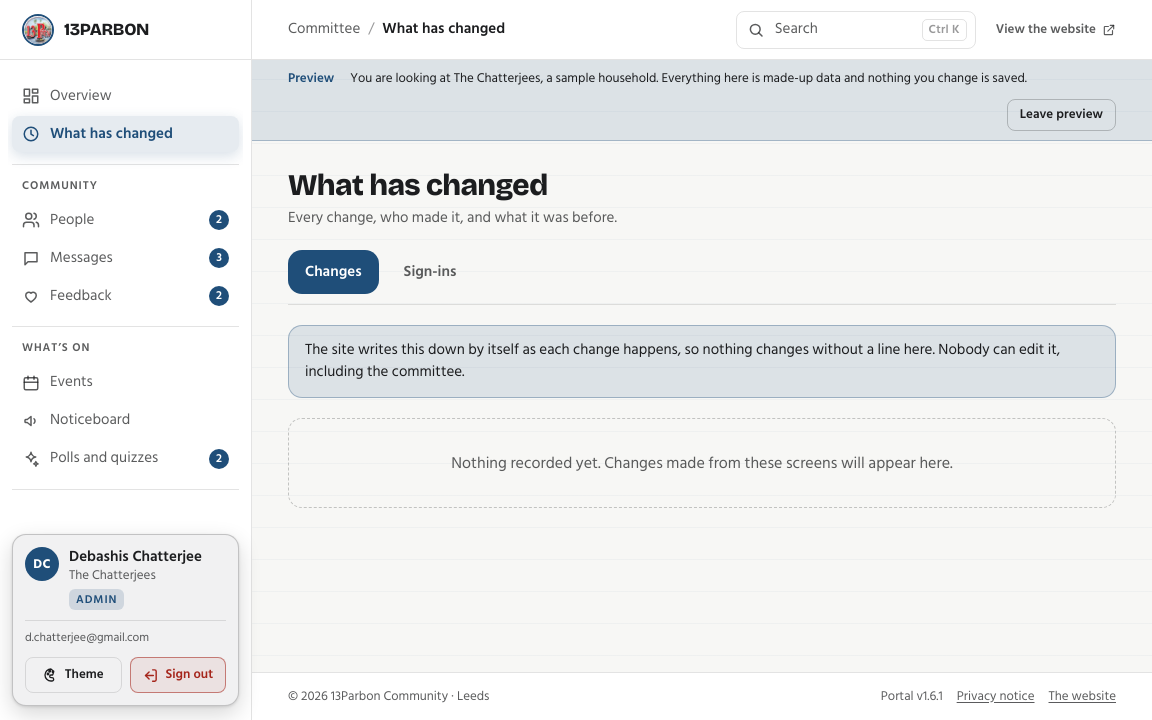
who signed in › has a tab of its own, kept out of the changes
Expected: the heading "What has changed" is shown, [288, 166, 548, 202]
Expected: the text "Rina Sen, The Sens" is not shown
Click the tab "Sign-ins" at (430,272), box [387, 250, 473, 294]
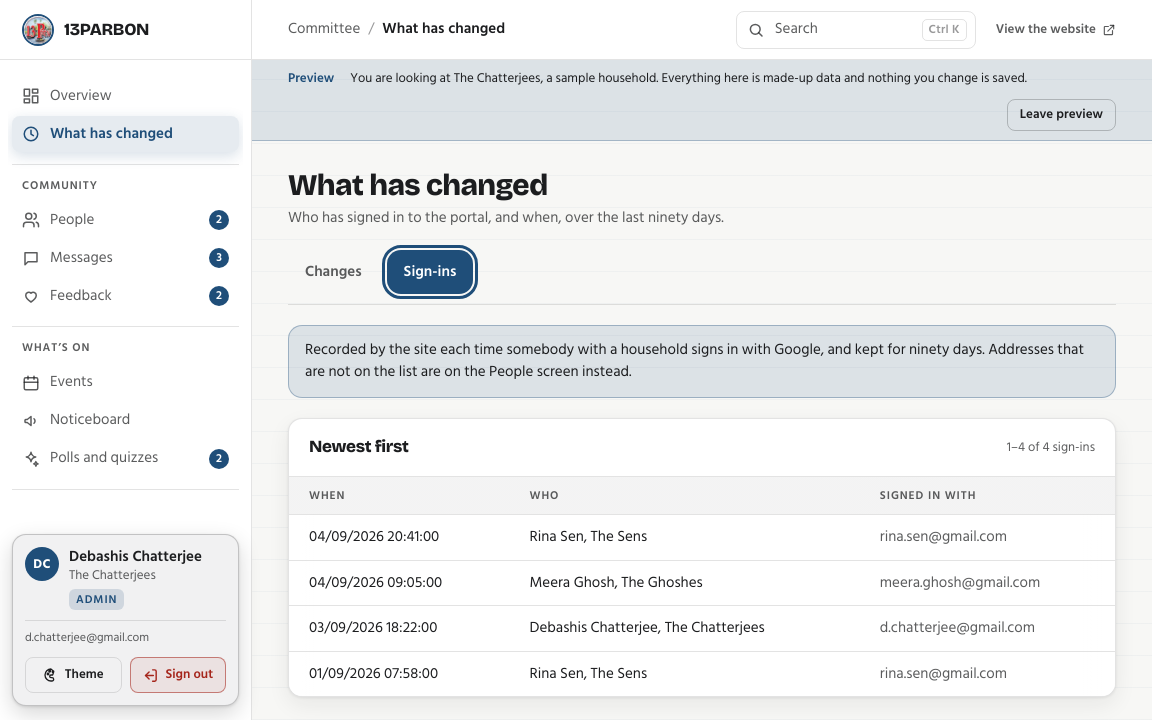
Expected: the text "Rina Sen, The Sens" is shown 2 times, [510, 515, 860, 560]; [510, 651, 860, 696]
Expected: the text "Meera Ghosh, The Ghoshes" is shown, [510, 560, 860, 606]
Expected: the text "1–4 of 4 sign-ins" is shown, [1007, 438, 1095, 457]
